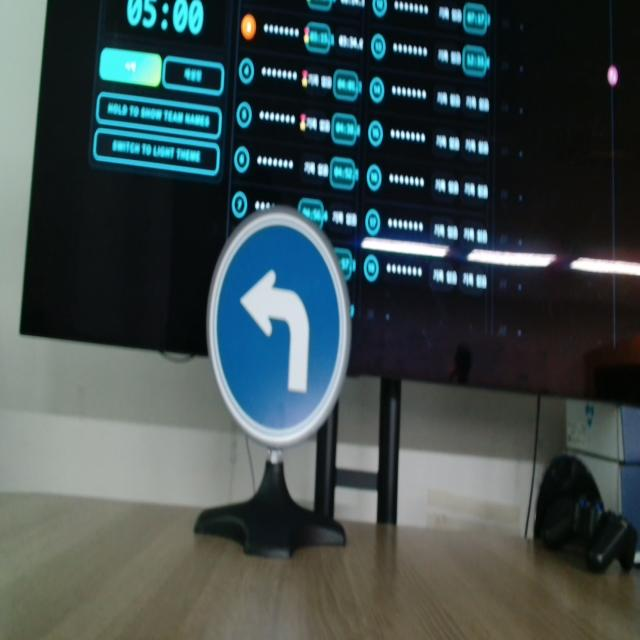left_direction: (202, 203, 352, 456)
